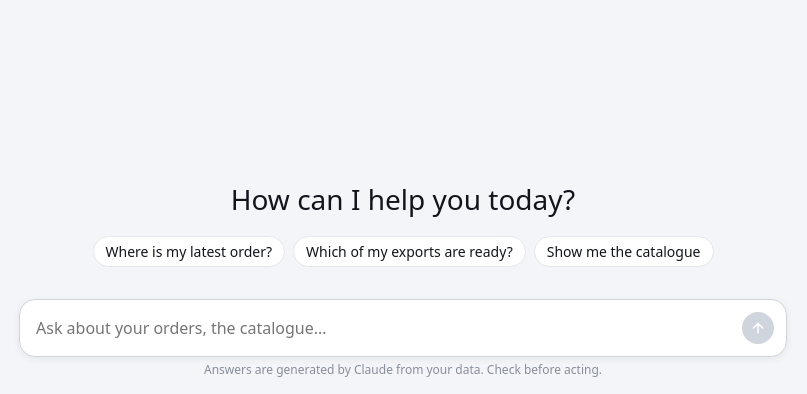
Test: AssistantPage › streams the answer in, with a chip for each tool and no trace of the keep-alive
Step 1. Type "Did jobs fail?" into the text box named "Your question" → (385,328), box [36,312,734,344]
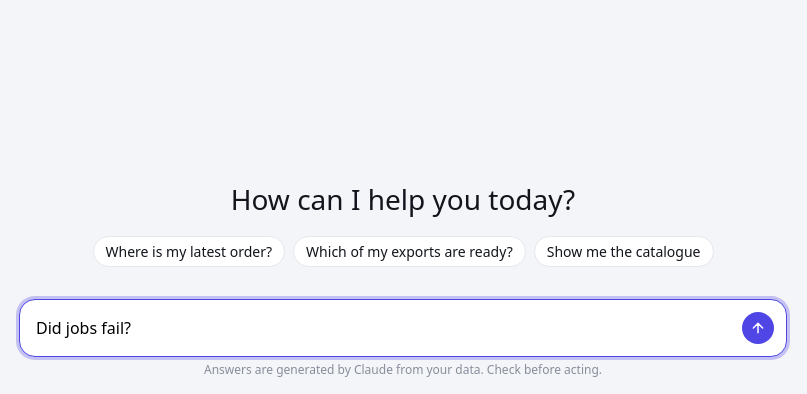
Step 2. Click the button named "Send" → (758,328), box [742,312,774,344]
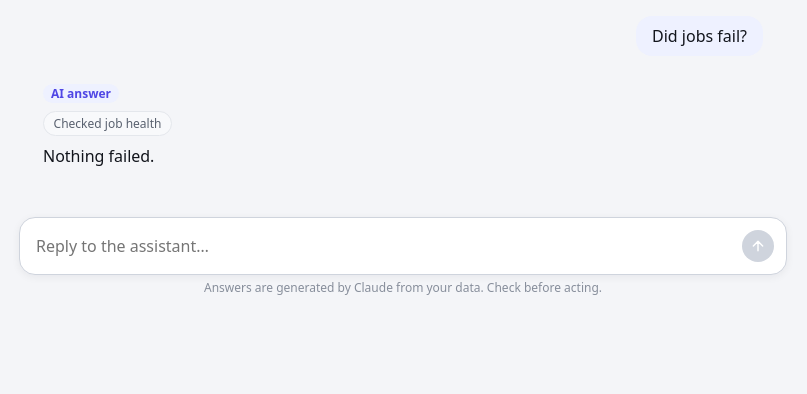
expect the list named "Conversation" does not show "keep-alive": met, box [43,16,763,185]
expect the text "Nothing failed." is shown: met, box [43,145,154,167]
expect the list named "Tools used" reads "Checked job health": met, box [43,111,172,136]
